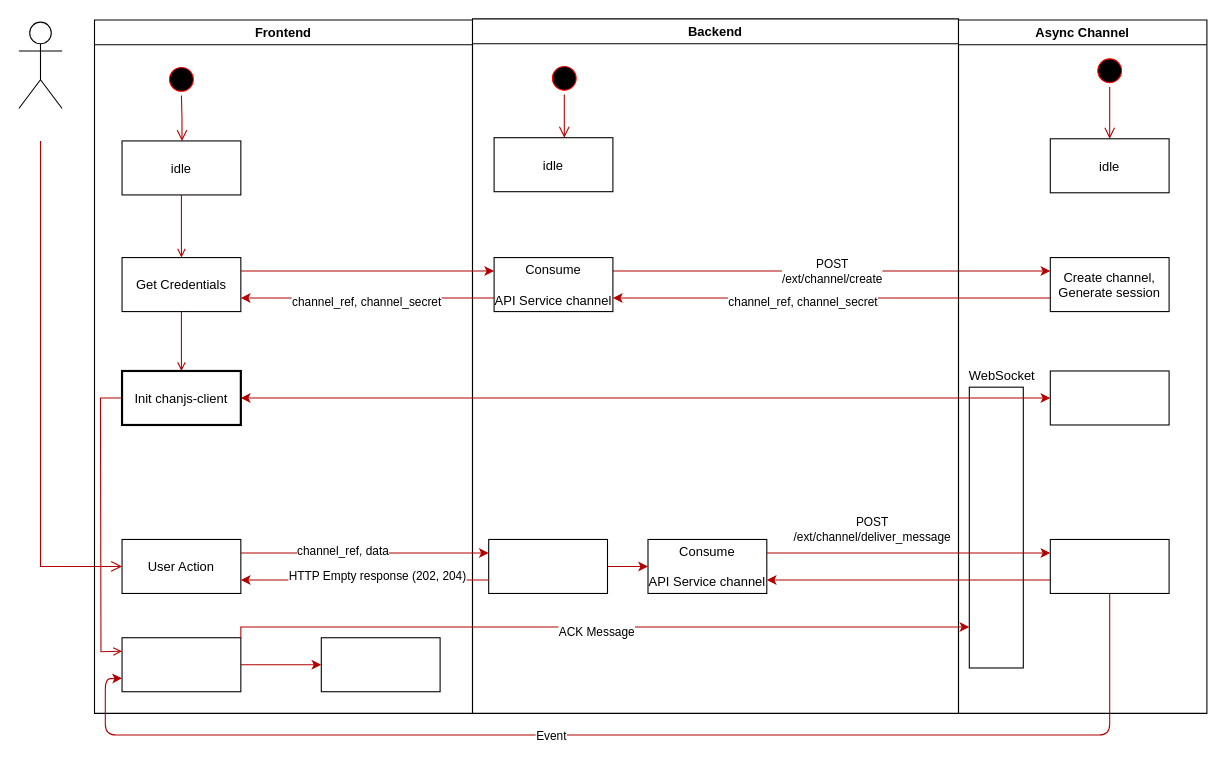
The diagram is 1226 pixels wide and 762 high, and some of its shapes have lost their labels. The shapes that lost their labels are listed below. From the top down, each one's centre as x and y in pixels, then its label:
[40,65]: User
[1109,397]: Connect Web Socket
[548,565]: Bussiness logic
[1109,565]: Deliver Message
[181,664]: Handle events
[380,664]: Callback Action
